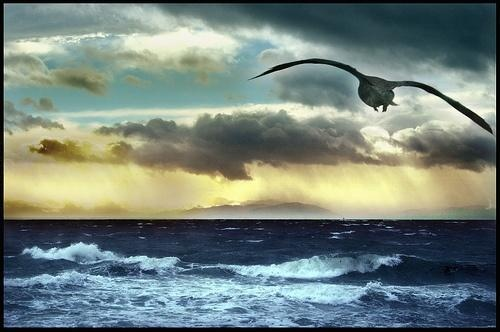bird: (248, 51, 498, 142)
